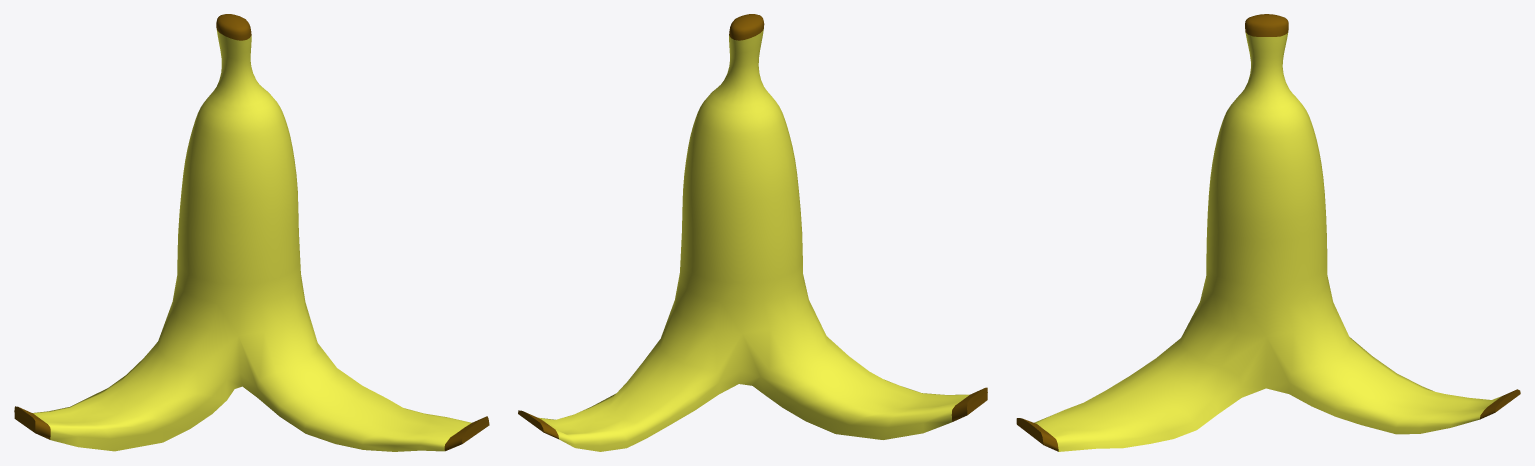
The model's file is BananaPeel.fbx.
The picture shows the model from 3 angles, left to right: view 1: azimuth 30°, elevation 25°; view 2: azimuth 150°, elevation 25°; view 3: azimuth 270°, elevation 25°; orthographic projection.
Parts seen in each view (by area): view 1: Banana Peel; view 2: Banana Peel; view 3: Banana Peel.
Part boxes in pixels (left/top/right/bottom): Banana Peel: left=14, top=14, right=489, bottom=451; Banana Peel: left=518, top=14, right=987, bottom=451; Banana Peel: left=1016, top=14, right=1520, bottom=451.
Bounding box in the file's own units: 1314 × 1315 × 1582.
